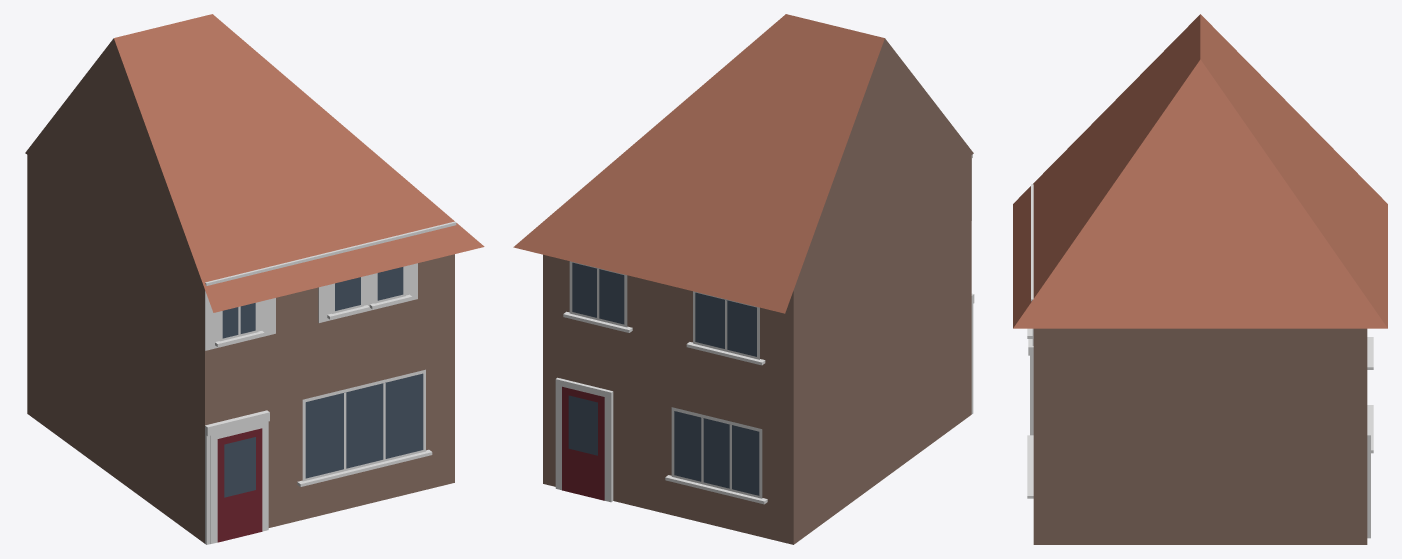
File: nn-band__panels__2__hip__long__solid__endR.glb
The picture shows the model from 3 angles, left to right: view 1: azimuth 30°, elevation 25°; view 2: azimuth 150°, elevation 25°; view 3: azimuth 270°, elevation 25°; orthographic projection. The views are drawn at different scales.
Visible parts, largest first — view 1: nn-band__panels__2__hip__long__solid__endR; view 2: nn-band__panels__2__hip__long__solid__endR; view 3: nn-band__panels__2__hip__long__solid__endR.
Boxes of the visible parts, <box> form: nn-band__panels__2__hip__long__solid__endR: <box>25,14,484,544</box>; nn-band__panels__2__hip__long__solid__endR: <box>513,14,974,544</box>; nn-band__panels__2__hip__long__solid__endR: <box>1013,14,1387,544</box>.
Size of the model in its own units: 5.76 by 8.95 by 7.33.
